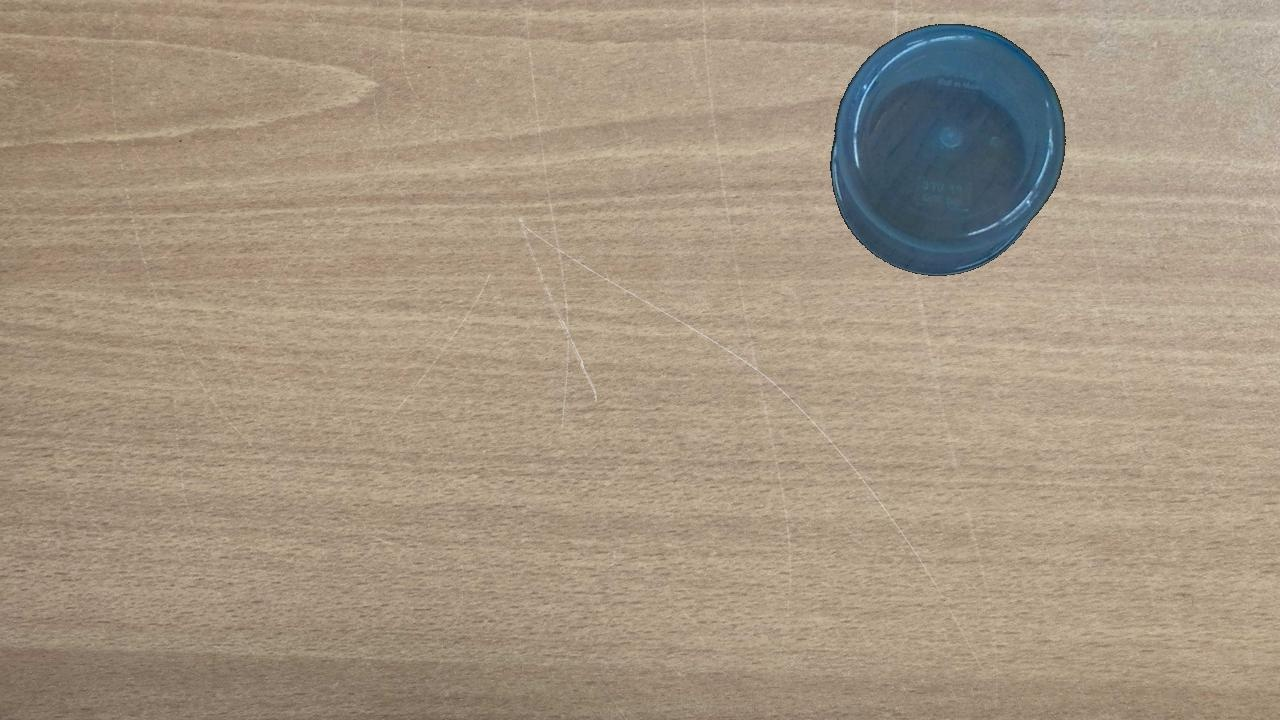cup: (829, 22, 1066, 278)
